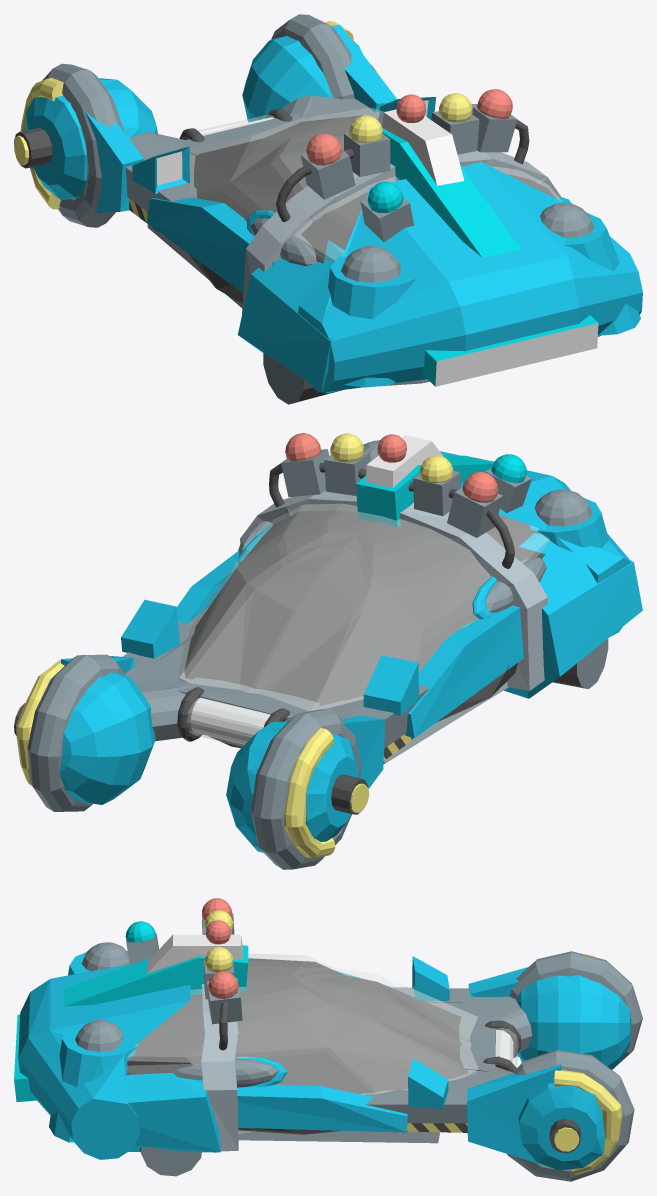
The model's file is flying_patroller.glb.
3 renders of one model, top to bottom at view 1: azimuth 30°, elevation 25°; view 2: azimuth 150°, elevation 25°; view 3: azimuth 270°, elevation 25°, orthographic. The views are drawn at different scales.
Visible parts, largest first — view 1: mesh7044159; view 2: mesh7044159; view 3: mesh7044159.
Part boxes in pixels (x1=…): mesh7044159: x1=14, y1=14, x2=642, y2=404; mesh7044159: x1=14, y1=433, x2=642, y2=869; mesh7044159: x1=14, y1=898, x2=642, y2=1181.
Bounding box in the file's own units: 0.2701 × 0.1851 × 0.4946.
